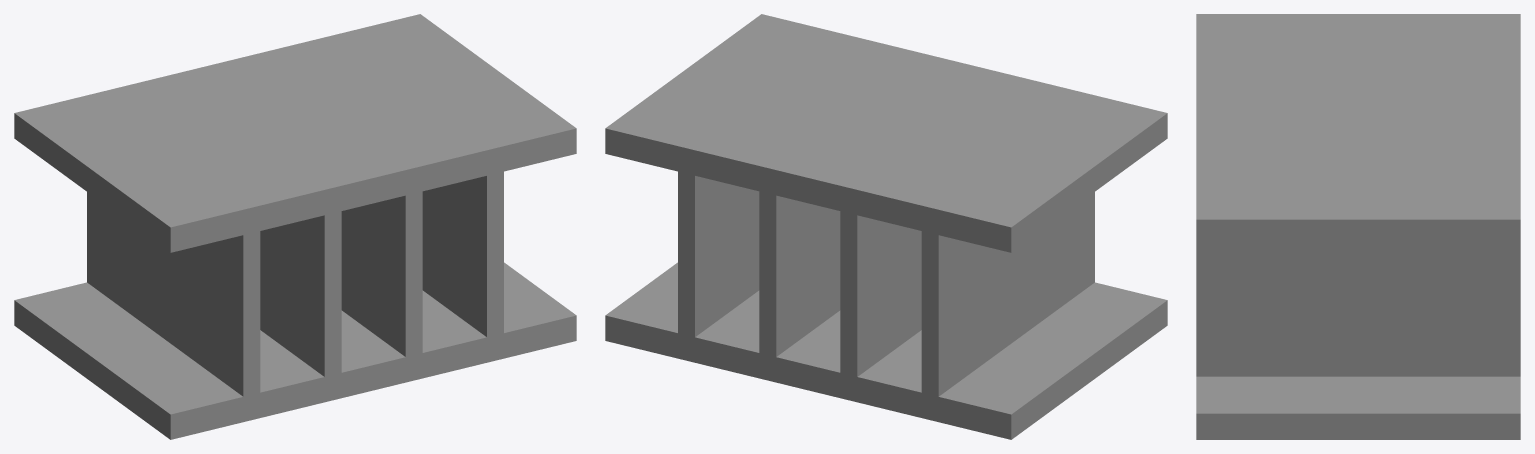
The model's file is Break.fbx.
3 renders of one model, left to right at view 1: azimuth 30°, elevation 25°; view 2: azimuth 150°, elevation 25°; view 3: azimuth 270°, elevation 25°, orthographic. The views are drawn at different scales.
Visible parts, largest first — view 1: Cube; view 2: Cube; view 3: Cube.
Boxes of the visible parts, x1,y1,x2,y2 form: Cube: (14,14,576,439); Cube: (605,14,1167,439); Cube: (1196,14,1520,439).
Size of the model in its own units: 60 by 30 by 40.
